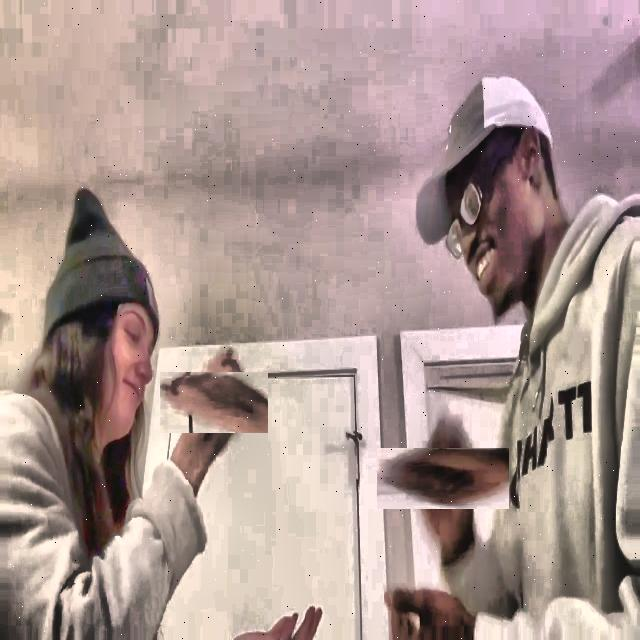not-gloved: (395, 429, 492, 526), (172, 360, 256, 445)
